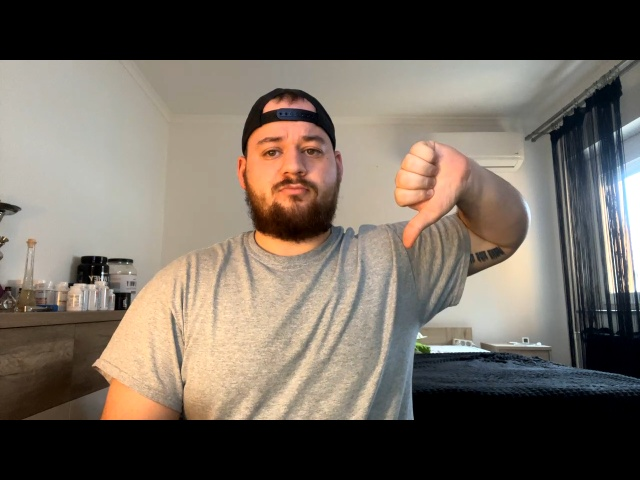ThumbsDown: (393, 139, 470, 251)
